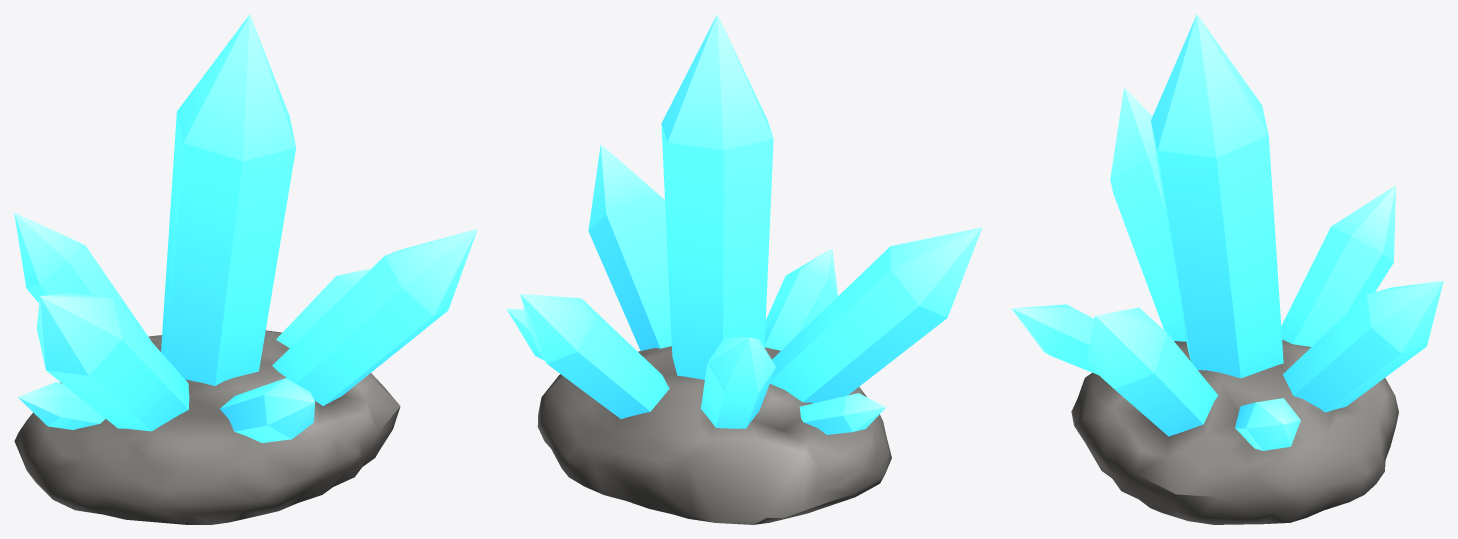
The model's file is space_crystal.glb.
3 renders of one model, left to right at view 1: azimuth 30°, elevation 25°; view 2: azimuth 150°, elevation 25°; view 3: azimuth 270°, elevation 25°, orthographic. The views are drawn at different scales.
Visible parts, largest first — view 1: space_crystal; view 2: space_crystal; view 3: space_crystal.
Boxes of the visible parts, box(x1,y1,x2,y2) form: space_crystal: box(14, 14, 477, 524); space_crystal: box(506, 14, 982, 524); space_crystal: box(1011, 14, 1443, 524).
Bounding box in the file's own units: 1.2 × 1.21 × 1.07.
